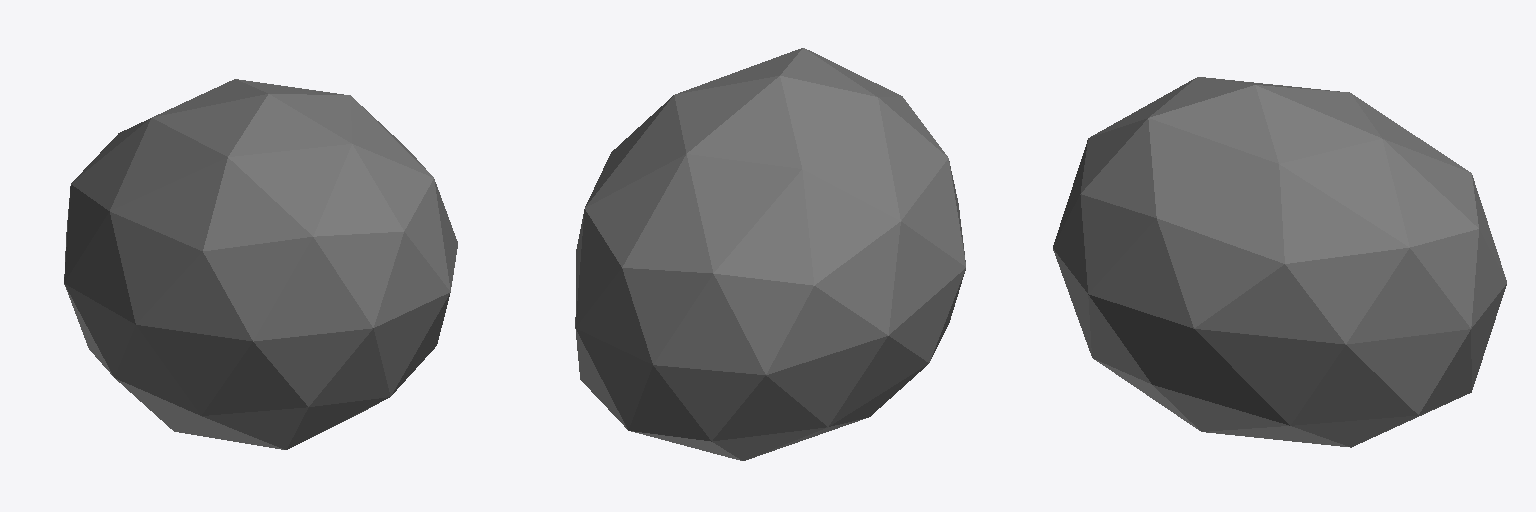
Rendered from Boulder.obj.
3 renders of one model, left to right at view 1: azimuth 30°, elevation 25°; view 2: azimuth 150°, elevation 25°; view 3: azimuth 270°, elevation 25°, orthographic.
Parts seen in each view (by area): view 1: Icosphere; view 2: Icosphere; view 3: Icosphere.
Boxes of the visible parts, box(x1,y1,x2,y2) form: Icosphere: box(64, 79, 457, 449); Icosphere: box(575, 48, 965, 460); Icosphere: box(1053, 77, 1506, 447).
Size of the model in its own units: 3.87 by 3.98 by 4.79.